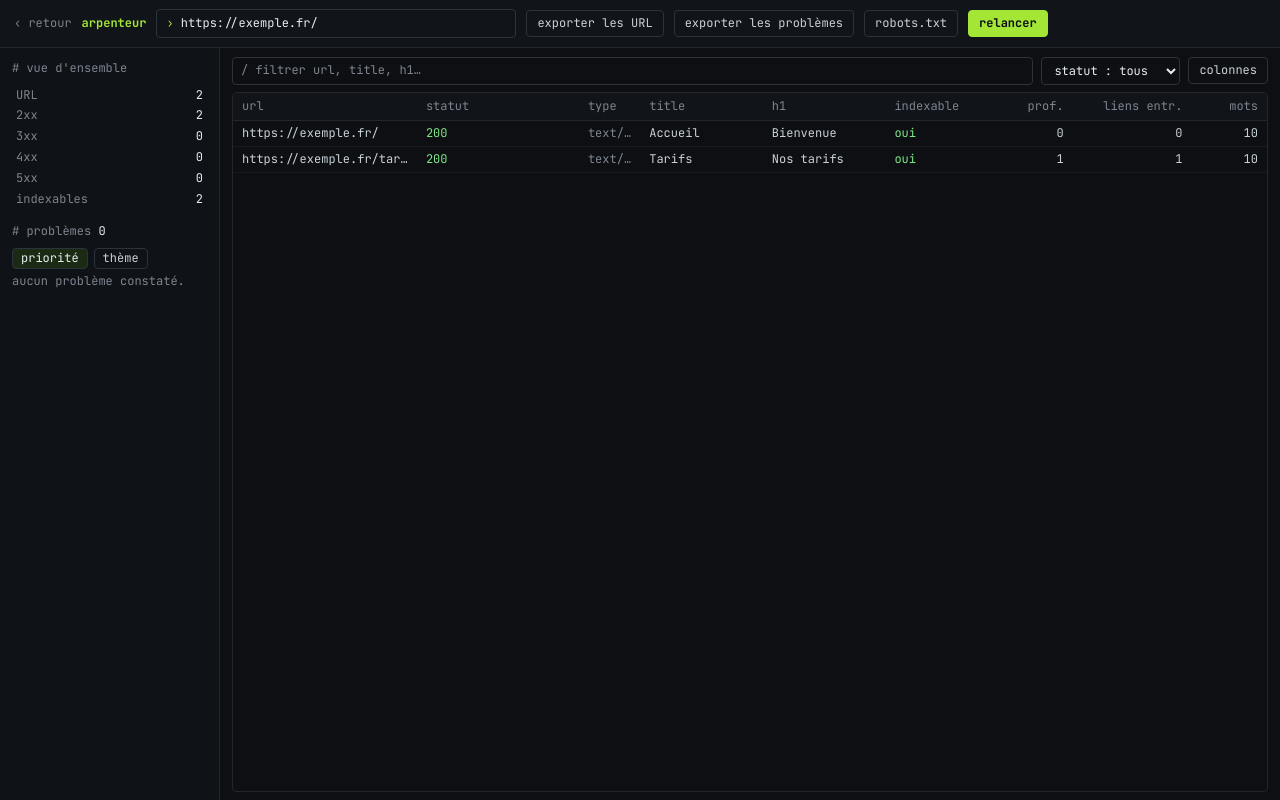
Test: relancer refusé affiche le message et reste sur l’écran
Step 1. Click the button "relancer" → click(1008, 23), box [968, 10, 1048, 37]
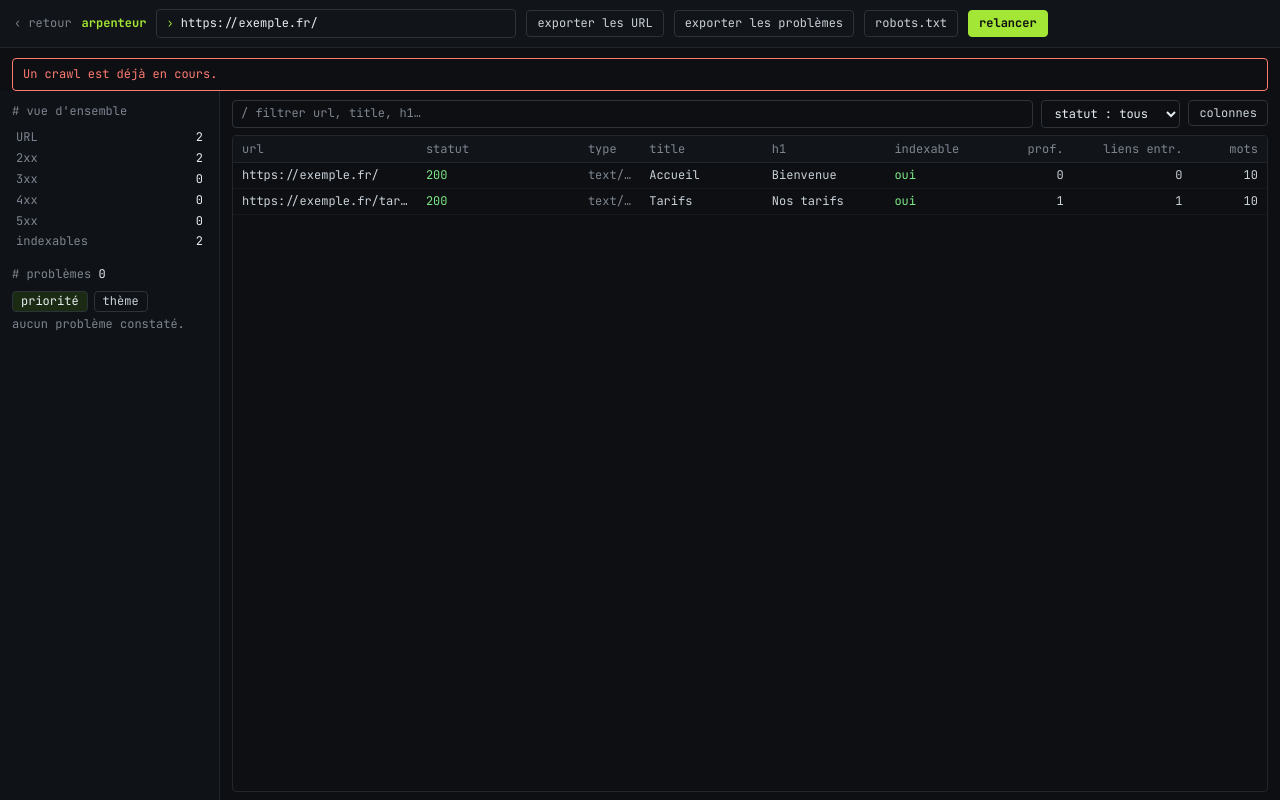
Expected: the message reads "Un crawl est déjà en cours.", [23, 66, 217, 82]
